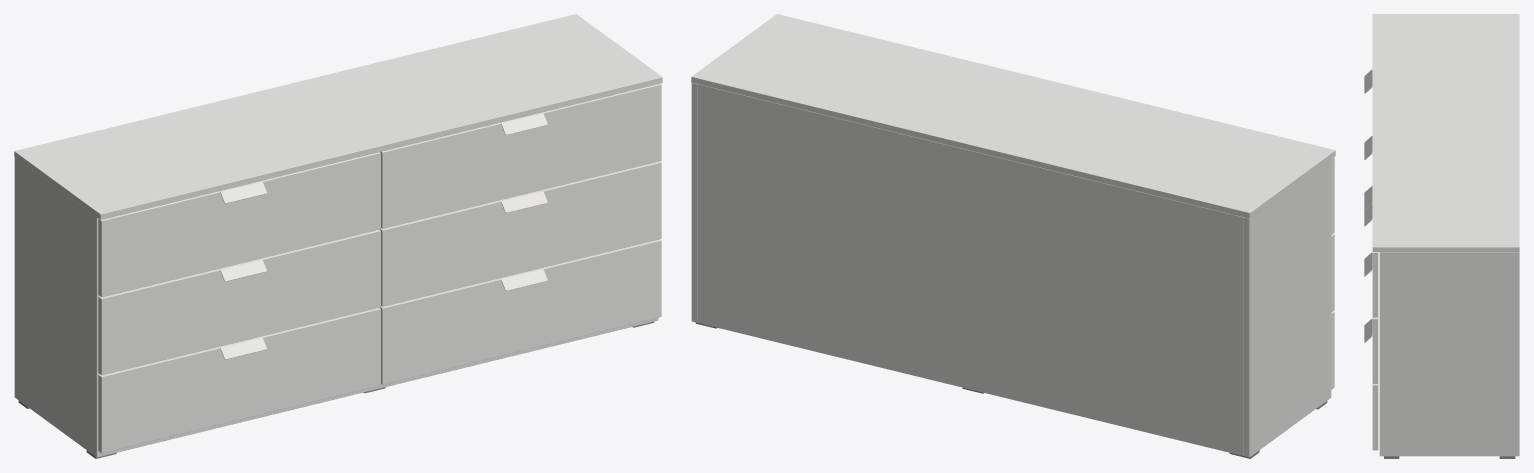
The model's file is dresser-12-brooklyn-six-drawer.glb.
3 views of the same model, side by side, from view 1: azimuth 30°, elevation 25°; view 2: azimuth 150°, elevation 25°; view 3: azimuth 270°, elevation 25° (orthographic). The views are drawn at different scales.
Visible parts, largest first — view 1: Panel_Top_Tile_ccc, Drawer_04_Front_Core_Tile_ccc, Drawer_05_Front_Core_Tile_ccc, Drawer_06_Front_Core_Tile_ccc, Drawer_03_Front_Core_Tile_ccc, Drawer_02_Front_Core_Tile_ccc, Drawer_01_Front_Core_Tile_ccc, Panel_Side_Left_Tile_ccc, Panel_Top_Tile_ccp, Panel_Bottom_Tile_ccp, Panel_Side_Left_Tile_ccp, Drawer_01_Front_Core_Tile_cpc (+3 smaller); view 2: Panel_Back_Tile_ccc, Panel_Top_Tile_ccc, Panel_Side_Left_Tile_ccc, Panel_Top_Tile_ccm, Panel_Side_Right_Tile_ccm, Panel_Side_Left_Tile_ccm; view 3: Panel_Top_Tile_ccc, Panel_Side_Right_Tile_ccc, Panel_Top_Tile_pcc, Drawer_05_Front_Core_Tile_pcc, Drawer_04_Front_Core_Tile_pcc, Drawer_06_Front_Core_Tile_pcc, Panel_Top_Tile_ccm, Panel_Top_Tile_ccp, Panel_Side_Right_Tile_ccm.
Part boxes in pixels (bbox=[...]): Panel_Top_Tile_ccc: bbox=[15, 14, 661, 213]; Drawer_04_Front_Core_Tile_ccc: bbox=[382, 240, 661, 384]; Drawer_05_Front_Core_Tile_ccc: bbox=[382, 162, 661, 306]; Drawer_06_Front_Core_Tile_ccc: bbox=[382, 84, 661, 228]; Drawer_03_Front_Core_Tile_ccc: bbox=[102, 153, 380, 296]; Drawer_02_Front_Core_Tile_ccc: bbox=[102, 231, 380, 374]; Drawer_01_Front_Core_Tile_ccc: bbox=[102, 309, 380, 452]; Panel_Side_Left_Tile_ccc: bbox=[14, 157, 96, 456]; Panel_Top_Tile_ccp: bbox=[100, 77, 662, 219]; Panel_Bottom_Tile_ccp: bbox=[102, 319, 652, 455]; Panel_Side_Left_Tile_ccp: bbox=[96, 217, 102, 457]; Drawer_01_Front_Core_Tile_cpc: bbox=[99, 308, 380, 376]; Panel_Back_Tile_ccc: bbox=[697, 84, 1243, 455]; Panel_Top_Tile_ccc: bbox=[692, 14, 1334, 212]; Panel_Side_Left_Tile_ccc: bbox=[1249, 159, 1331, 456]; Panel_Top_Tile_ccm: bbox=[691, 77, 1249, 218]; Panel_Side_Right_Tile_ccm: bbox=[691, 83, 697, 322]; Panel_Side_Left_Tile_ccm: bbox=[1244, 217, 1249, 457]; Panel_Top_Tile_ccc: bbox=[1373, 14, 1519, 246]; Panel_Side_Right_Tile_ccc: bbox=[1379, 252, 1519, 456]; Panel_Top_Tile_pcc: bbox=[1373, 247, 1519, 251]; Drawer_05_Front_Core_Tile_pcc: bbox=[1372, 319, 1378, 383]; Drawer_04_Front_Core_Tile_pcc: bbox=[1372, 385, 1378, 449]; Drawer_06_Front_Core_Tile_pcc: bbox=[1372, 253, 1378, 317]; Panel_Top_Tile_ccm: bbox=[1519, 14, 1519, 246]; Panel_Top_Tile_ccp: bbox=[1372, 14, 1372, 246]; Panel_Side_Right_Tile_ccm: bbox=[1519, 252, 1519, 455].
Size of the model in its own units: 1.6 by 0.68 by 0.45.
Materials: 191 (189 with a texture image).
